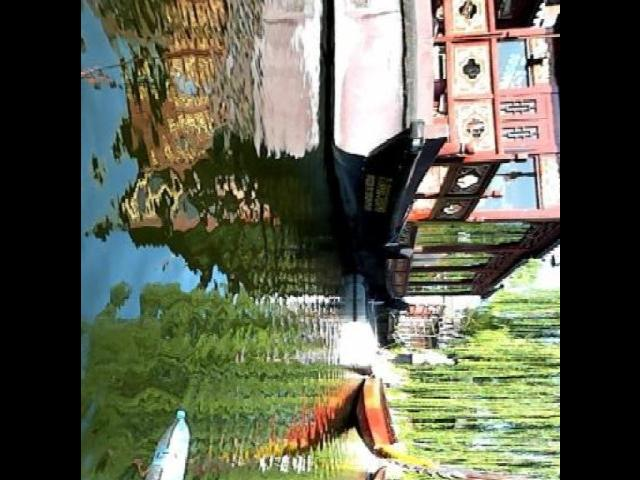Bottle: (151, 403, 191, 480)
